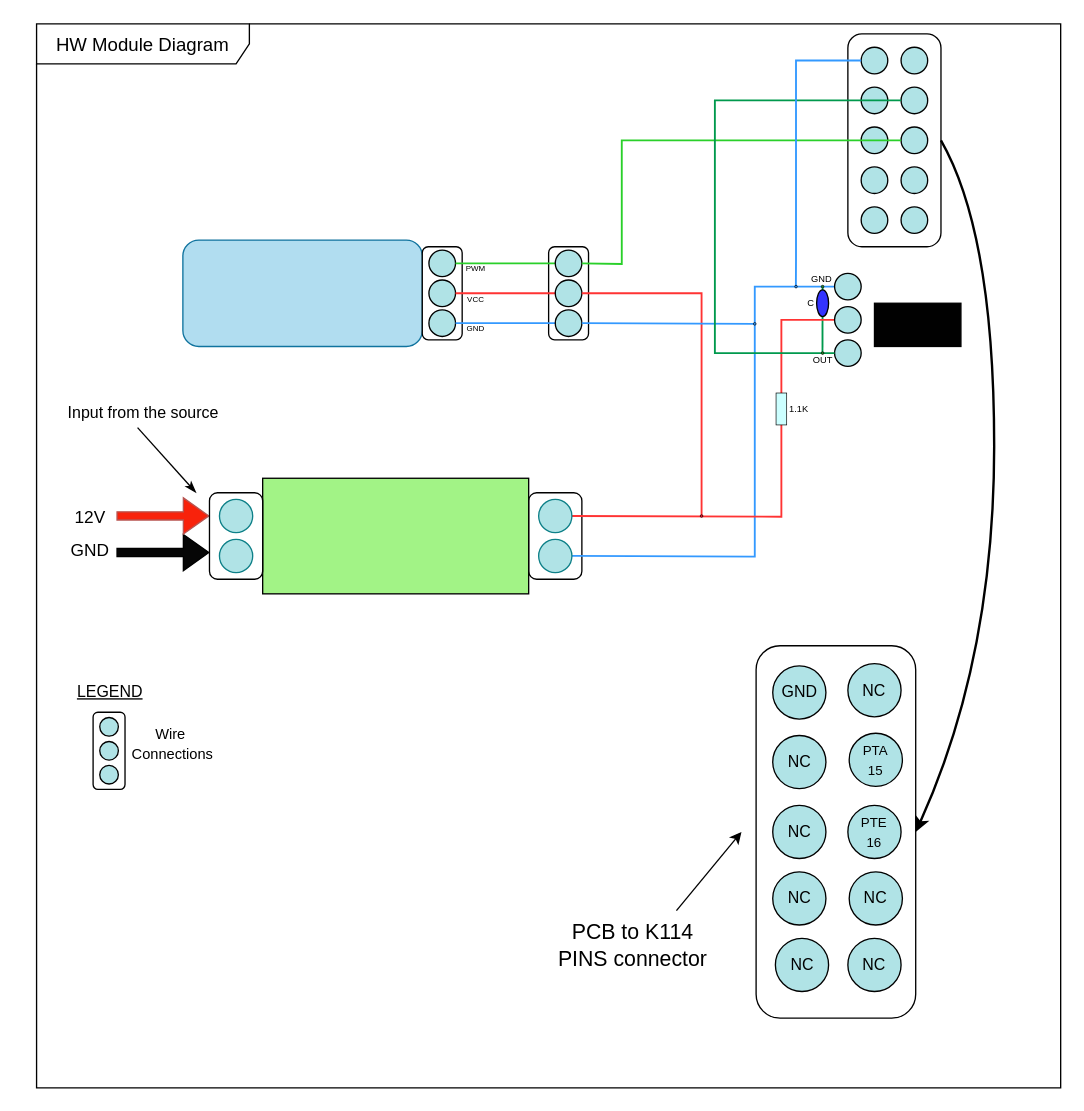
Some shapes in this 1084 by 1111 pixel diagram are drawn without their labels. Each missing label, with the centre of its shape:
"POT" belongs at point (917, 324).
"SERVOMOTOR" belongs at point (302, 292).
"VOLTAGE REGULATOR" belongs at point (395, 535).
